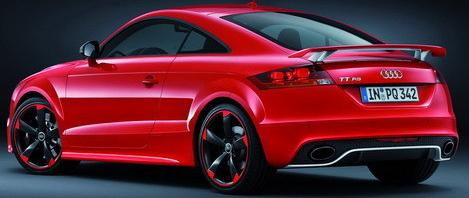back_view: (244, 41, 463, 171)
backlight: (244, 58, 341, 93)
side_glass: (98, 18, 230, 57)
